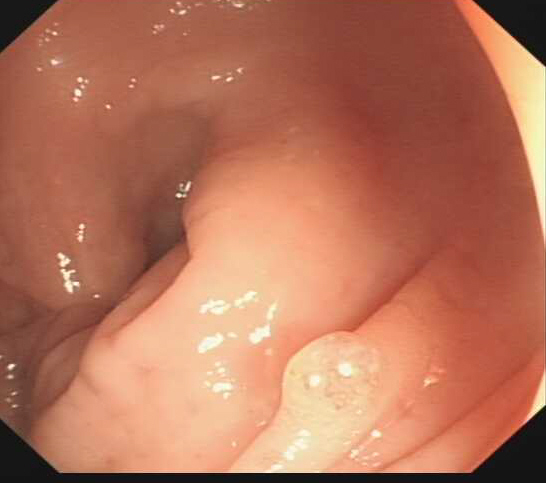others: (276, 328, 378, 419)
